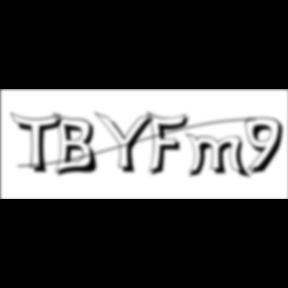9: (244, 117, 288, 177)
B: (53, 111, 103, 179)
F: (147, 110, 195, 178)
T: (10, 112, 68, 176)
Y: (94, 110, 160, 176)
m: (185, 132, 253, 181)
